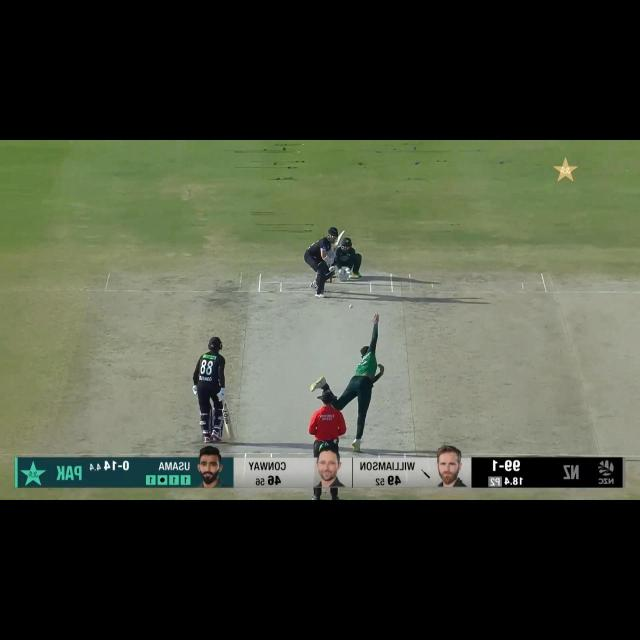bat: (218, 408, 240, 445), (332, 226, 349, 254)
toe: (224, 430, 236, 442), (337, 228, 348, 239)
